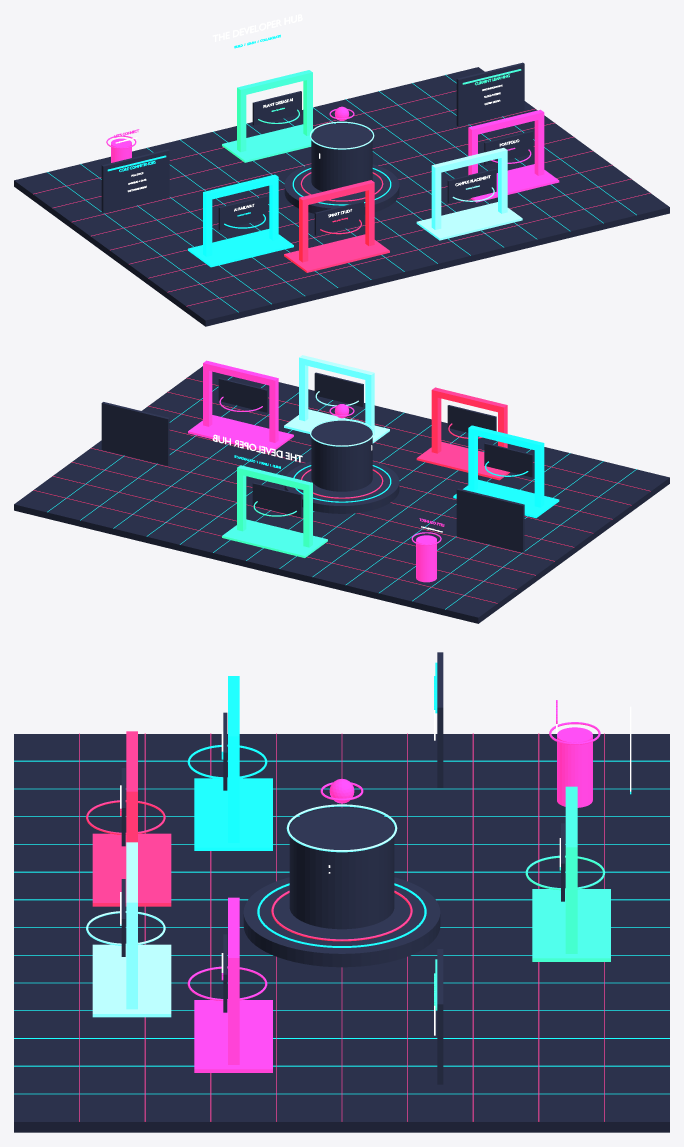
The picture shows the model from 3 angles, top to bottom: view 1: azimuth 30°, elevation 25°; view 2: azimuth 150°, elevation 25°; view 3: azimuth 270°, elevation 25°; orthographic projection. The views are drawn at different scales.
Parts seen in each view (by area): view 1: Ground, Identity core, Data board.001, Data board, Identity plinth, Portal pad.001, Portal pad, Portal pad.002, Portal pad.004, Portal pad.003, Project display, Project display.001 (+19 smaller); view 2: Ground, Identity core, Data board, Data board.001, Identity plinth, Portal pad.004, Portal pad.003, Portal pad.001, Portal pad, Project display.004, Project display.002, Project display.003 (+23 smaller); view 3: Ground, Identity core, Identity plinth, Portal pad.002, Portal pad.003, Portal pad, Portal pad.004, Portal pad.001, Contact beacon, Grid line.012, Portal pillar.009, Portal pillar.005 (+17 smaller).
Part boxes in pixels (x1=…): Ground: x1=14, y1=67, x2=669, y2=326; Identity core: x1=311, y1=123, x2=372, y2=191; Data board.001: x1=456, y1=62, x2=524, y2=126; Data board: x1=101, y1=149, x2=169, y2=213; Identity plinth: x1=284, y1=164, x2=399, y2=214; Portal pad.001: x1=284, y1=234, x2=389, y2=272; Portal pad: x1=188, y1=229, x2=293, y2=267; Portal pad.002: x1=416, y1=202, x2=522, y2=240; Portal pad.004: x1=222, y1=124, x2=314, y2=162; Portal pad.003: x1=470, y1=164, x2=559, y2=202; Project display: x1=218, y1=195, x2=267, y2=230; Project display.001: x1=314, y1=201, x2=363, y2=235; Ground: x1=14, y1=366, x2=669, y2=623; Identity core: x1=311, y1=420, x2=372, y2=491; Data board: x1=456, y1=488, x2=524, y2=552; Data board.001: x1=101, y1=402, x2=169, y2=465; Identity plinth: x1=284, y1=461, x2=399, y2=513; Portal pad.004: x1=222, y1=519, x2=327, y2=557; Portal pad.003: x1=188, y1=415, x2=293, y2=453; Portal pad.001: x1=416, y1=441, x2=509, y2=480; Portal pad: x1=453, y1=479, x2=559, y2=518; Project display.004: x1=252, y1=482, x2=301, y2=517; Project display.002: x1=314, y1=372, x2=363, y2=407; Project display.003: x1=218, y1=378, x2=267, y2=412; Ground: x1=14, y1=734, x2=669, y2=1132; Identity core: x1=289, y1=807, x2=394, y2=929; Identity plinth: x1=243, y1=877, x2=440, y2=967; Portal pad.002: x1=92, y1=944, x2=171, y2=1017; Portal pad.003: x1=194, y1=1000, x2=272, y2=1072; Portal pad: x1=194, y1=778, x2=272, y2=850; Portal pad.004: x1=532, y1=889, x2=610, y2=961; Portal pad.001: x1=92, y1=833, x2=171, y2=906; Contact beacon: x1=557, y1=727, x2=592, y2=807; Grid line.012: x1=14, y1=1093, x2=669, y2=1094; Portal pillar.009: x1=565, y1=851, x2=577, y2=953; Portal pillar.005: x1=126, y1=906, x2=137, y2=1009.
Bounding box in the file's own units: 28 × 6.55 × 20.
